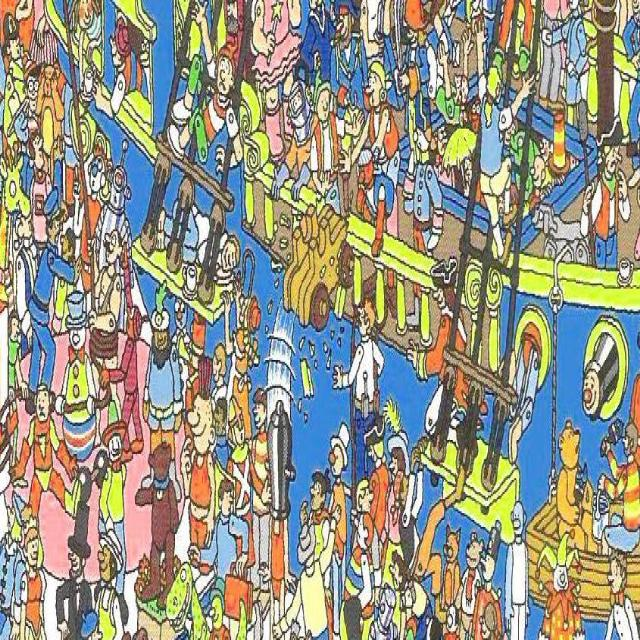waldo: (22, 54, 42, 111)
